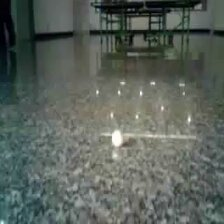w: (110, 129, 126, 148)
